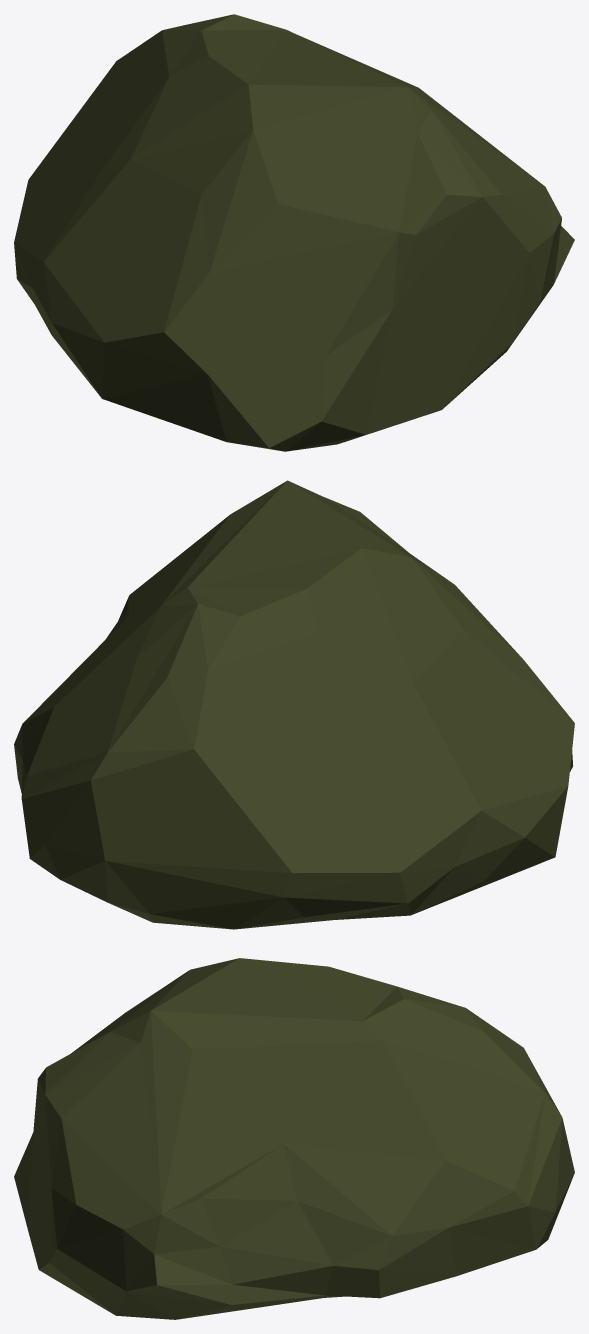
The model's file is SM_small_rock_32.fbx.
The picture shows the model from 3 angles, top to bottom: view 1: azimuth 30°, elevation 25°; view 2: azimuth 150°, elevation 25°; view 3: azimuth 270°, elevation 25°; orthographic projection. The views are drawn at different scales.
Visible parts, largest first — view 1: small_rock_32; view 2: small_rock_32; view 3: small_rock_32.
Boxes of the visible parts, bbox=[...] form: small_rock_32: bbox=[14, 14, 574, 451]; small_rock_32: bbox=[14, 480, 574, 929]; small_rock_32: bbox=[14, 958, 574, 1319].
Size of the model in its own units: 11.77 by 7.03 by 12.67.
